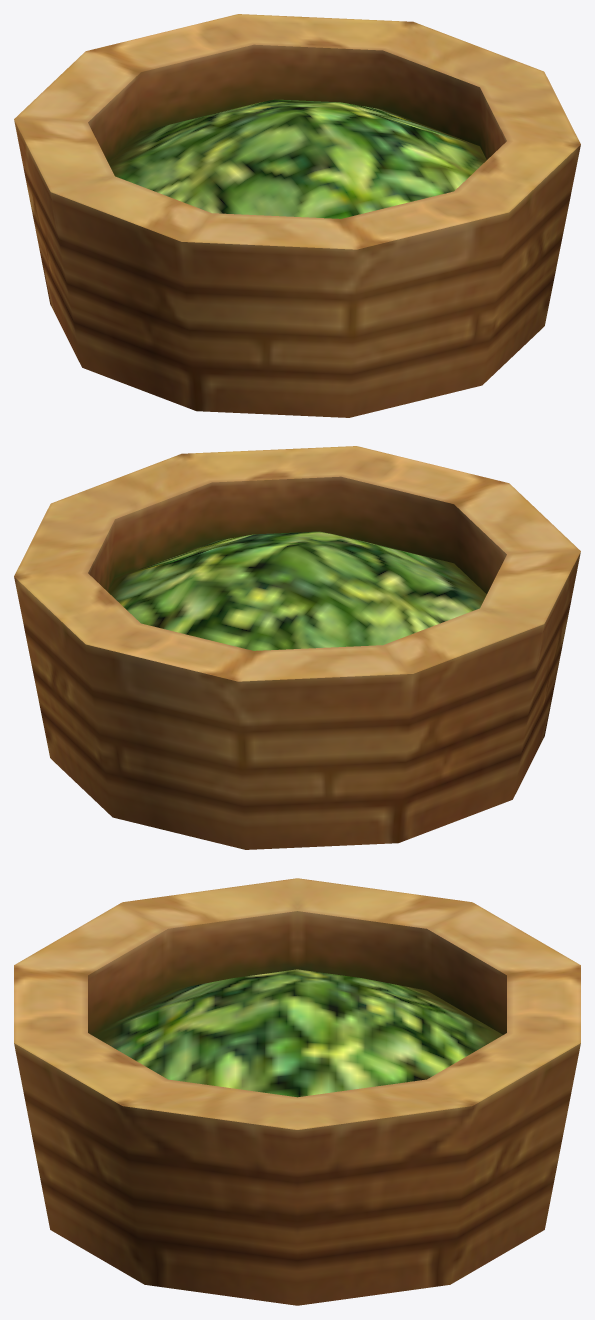
The model's file is Stage_ShaMo_HuaTan03.FBX.
The picture shows the model from 3 angles, top to bottom: view 1: azimuth 30°, elevation 25°; view 2: azimuth 150°, elevation 25°; view 3: azimuth 270°, elevation 25°; orthographic projection. The views are drawn at different scales.
Visible parts, largest first — view 1: Stage_ShaMo_HuaTan03; view 2: Stage_ShaMo_HuaTan03; view 3: Stage_ShaMo_HuaTan03.
Boxes of the visible parts, x1,y1,x2,y2 form: Stage_ShaMo_HuaTan03: [14, 14, 580, 417]; Stage_ShaMo_HuaTan03: [14, 446, 580, 849]; Stage_ShaMo_HuaTan03: [14, 878, 580, 1305].
Bounding box in the file's own units: 116 × 45.18 × 111.
